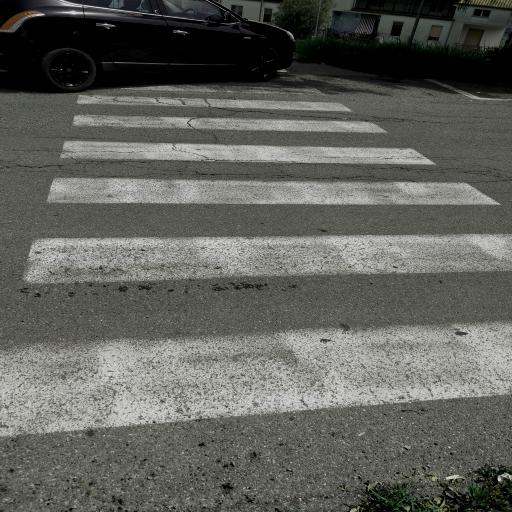crosswalk: (1, 225, 511, 450), (34, 138, 507, 208)
